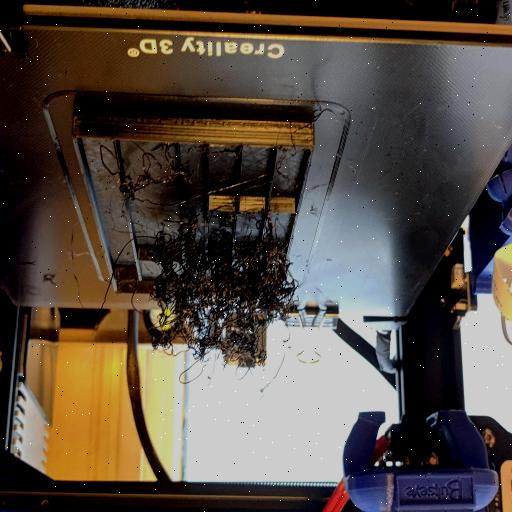spaghetti: (122, 221, 302, 387), (88, 124, 192, 210)
